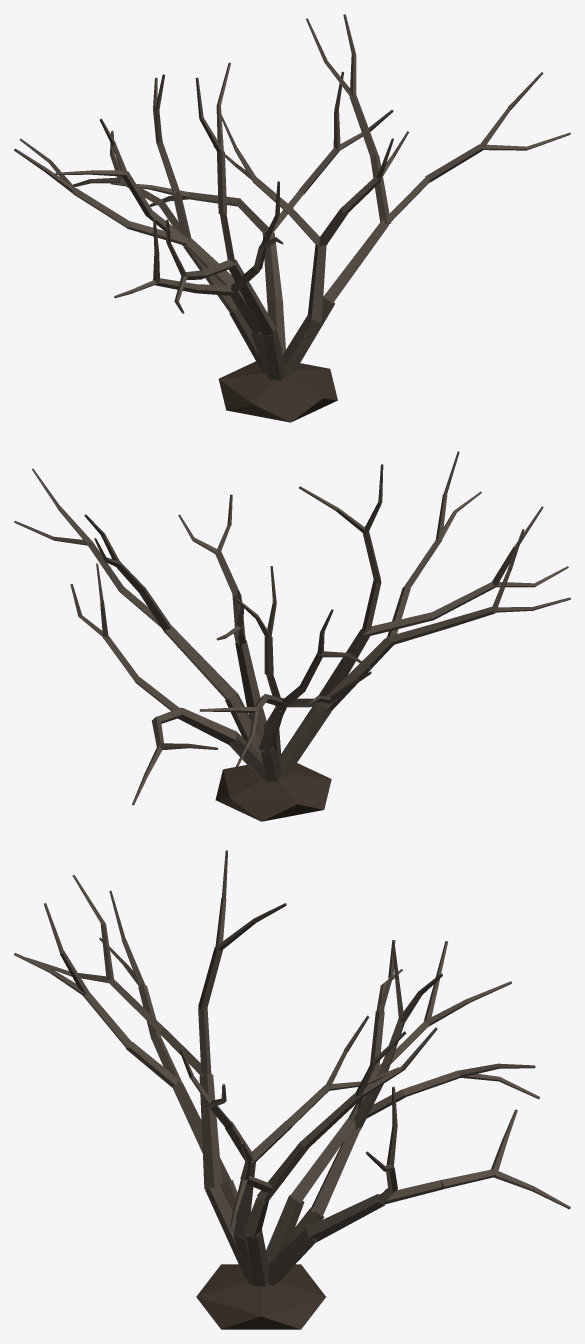
The model's file is dead_bush.glb.
3 views of the same model, one above another, from view 1: azimuth 30°, elevation 25°; view 2: azimuth 150°, elevation 25°; view 3: azimuth 270°, elevation 25° (orthographic). The views are drawn at different scales.
Parts seen in each view (by area): view 1: DeadBush; view 2: DeadBush; view 3: DeadBush.
Boxes of the visible parts, bbox=[...] form: DeadBush: bbox=[14, 14, 570, 422]; DeadBush: bbox=[14, 451, 570, 821]; DeadBush: bbox=[14, 850, 570, 1329].
Size of the model in its own units: 1.77 by 1.2 by 1.46.
